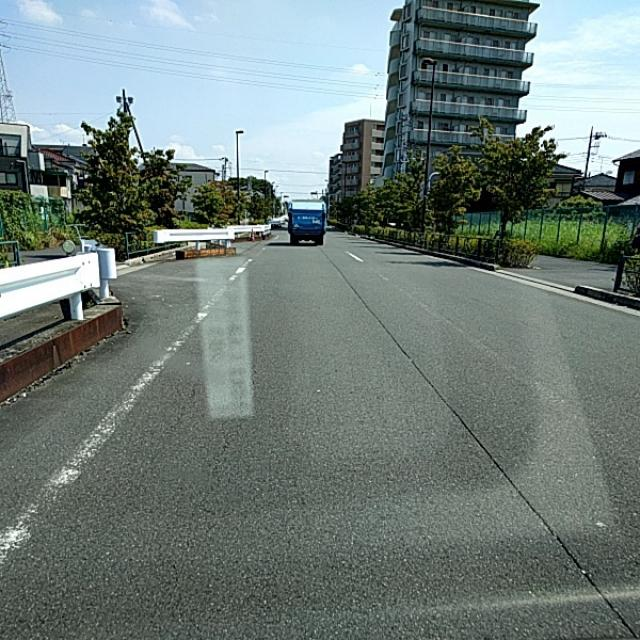pothole: (412, 366, 484, 462)
